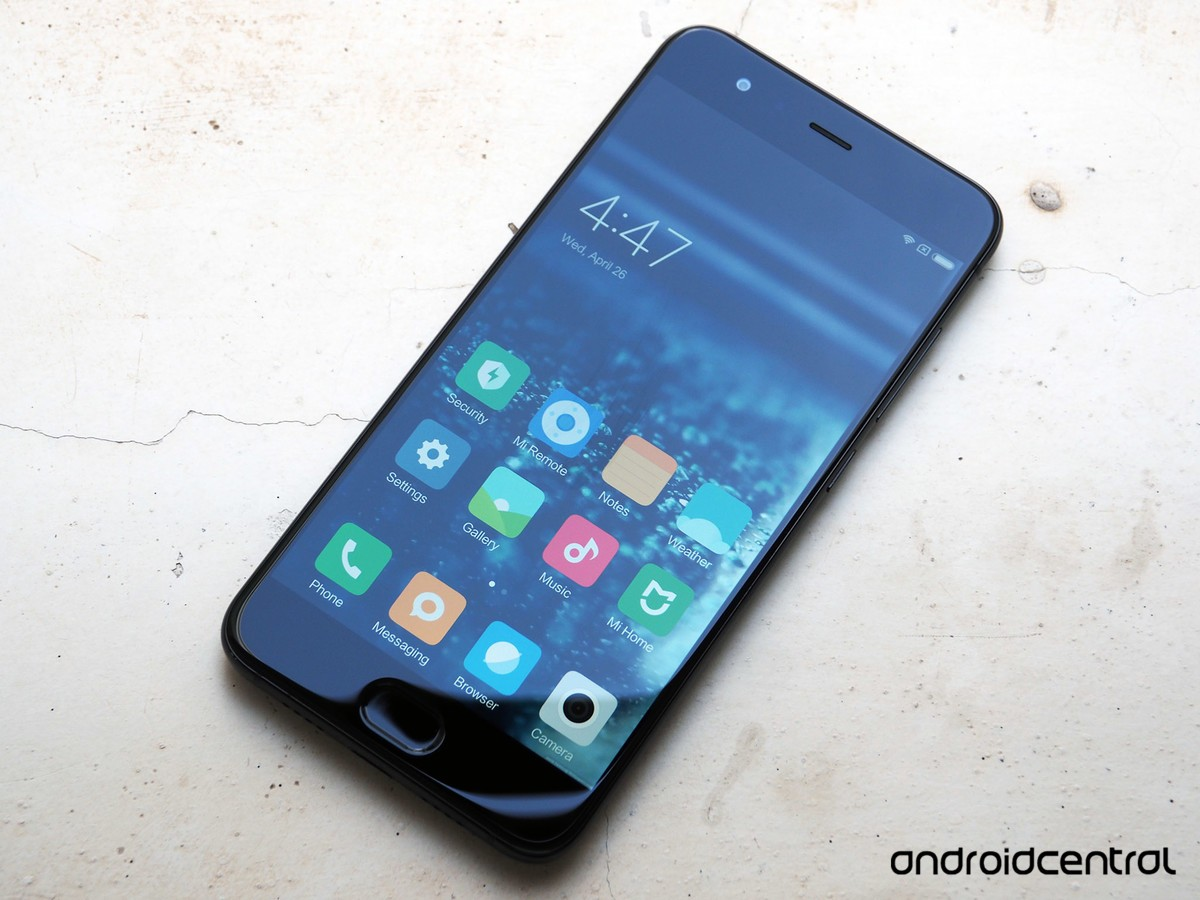smartphone: (219, 24, 1004, 865)
